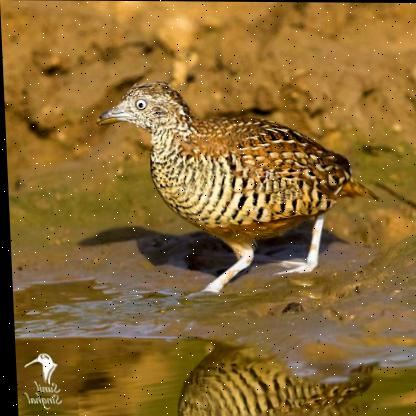Burung: (95, 82, 383, 295)
